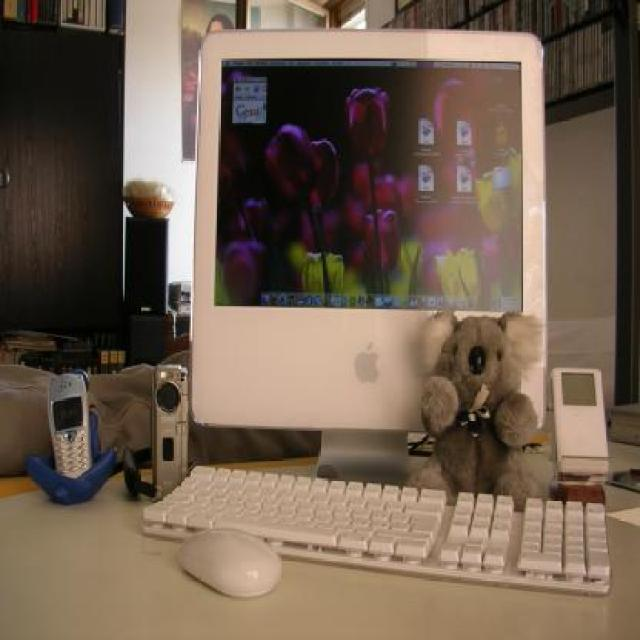komputer: (193, 29, 554, 472)
mouse: (171, 528, 287, 598)
